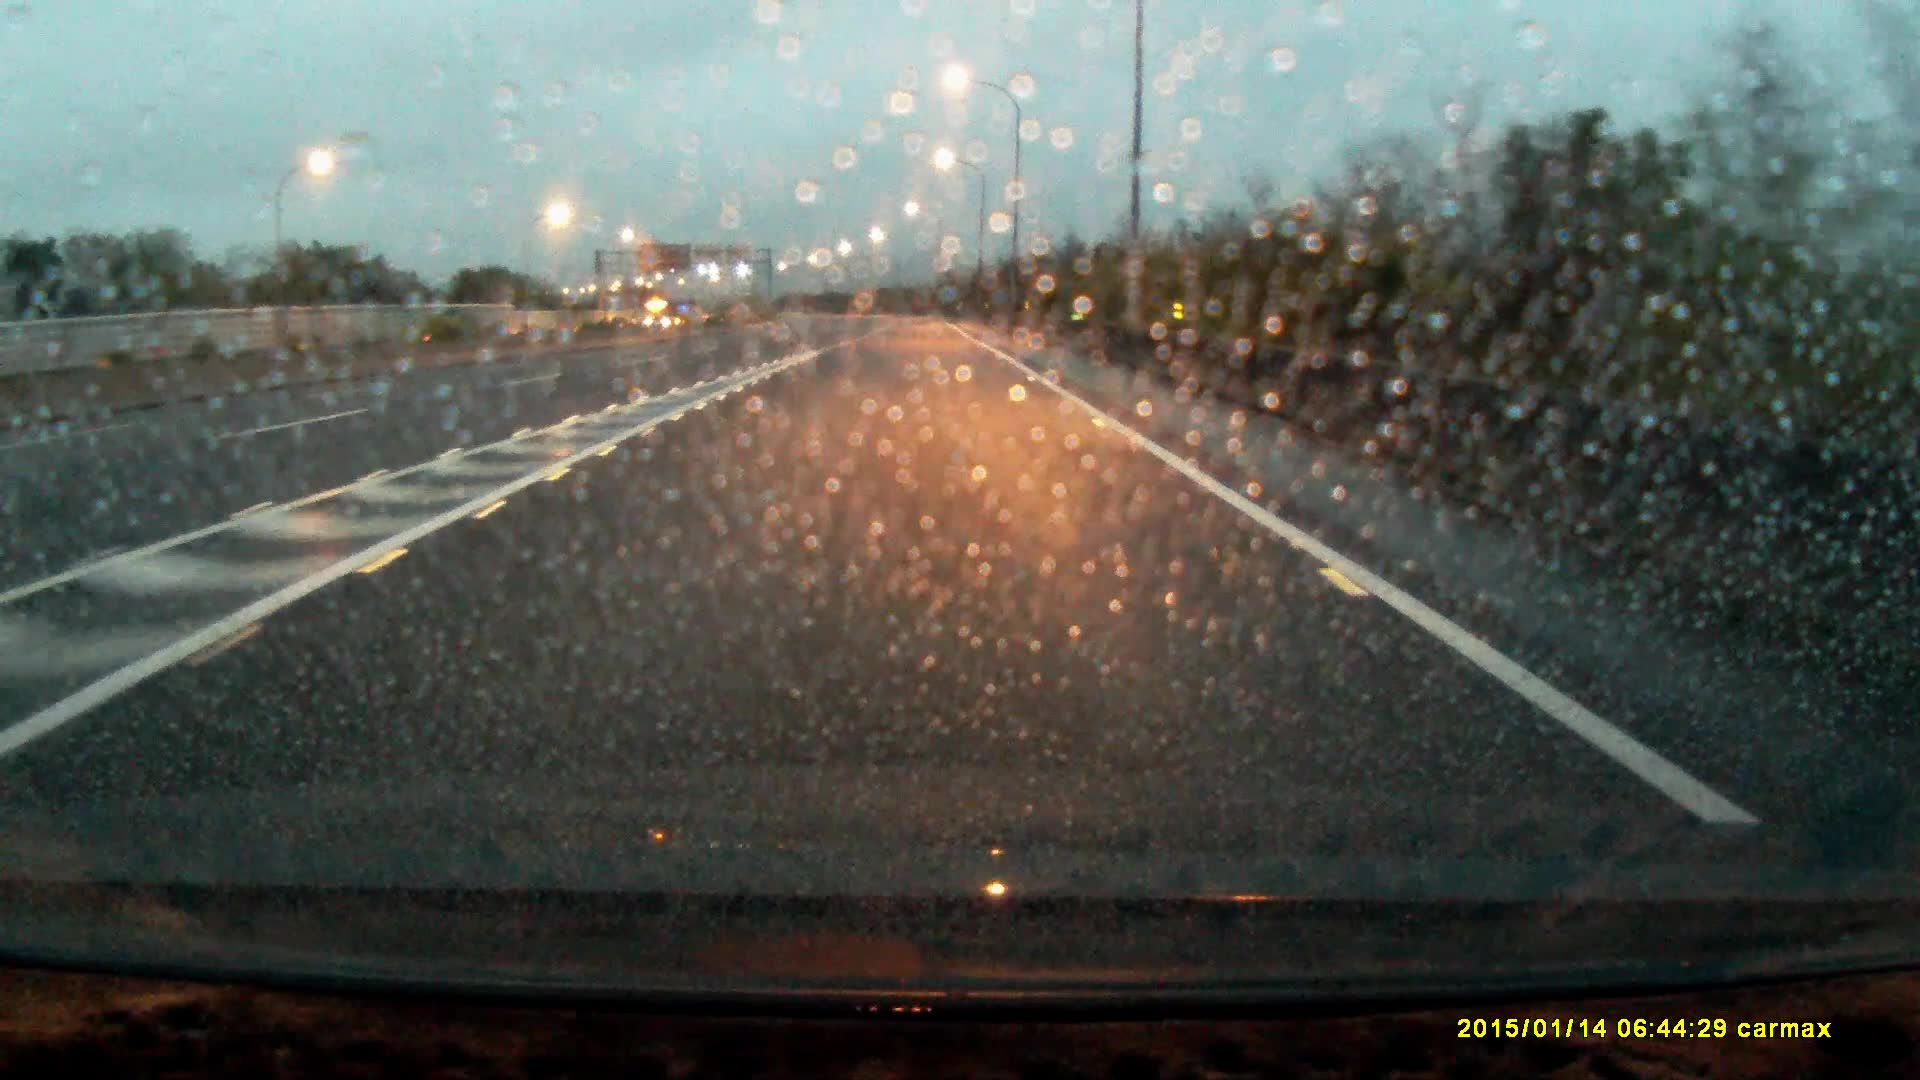vehicle: (646, 295, 678, 327)
